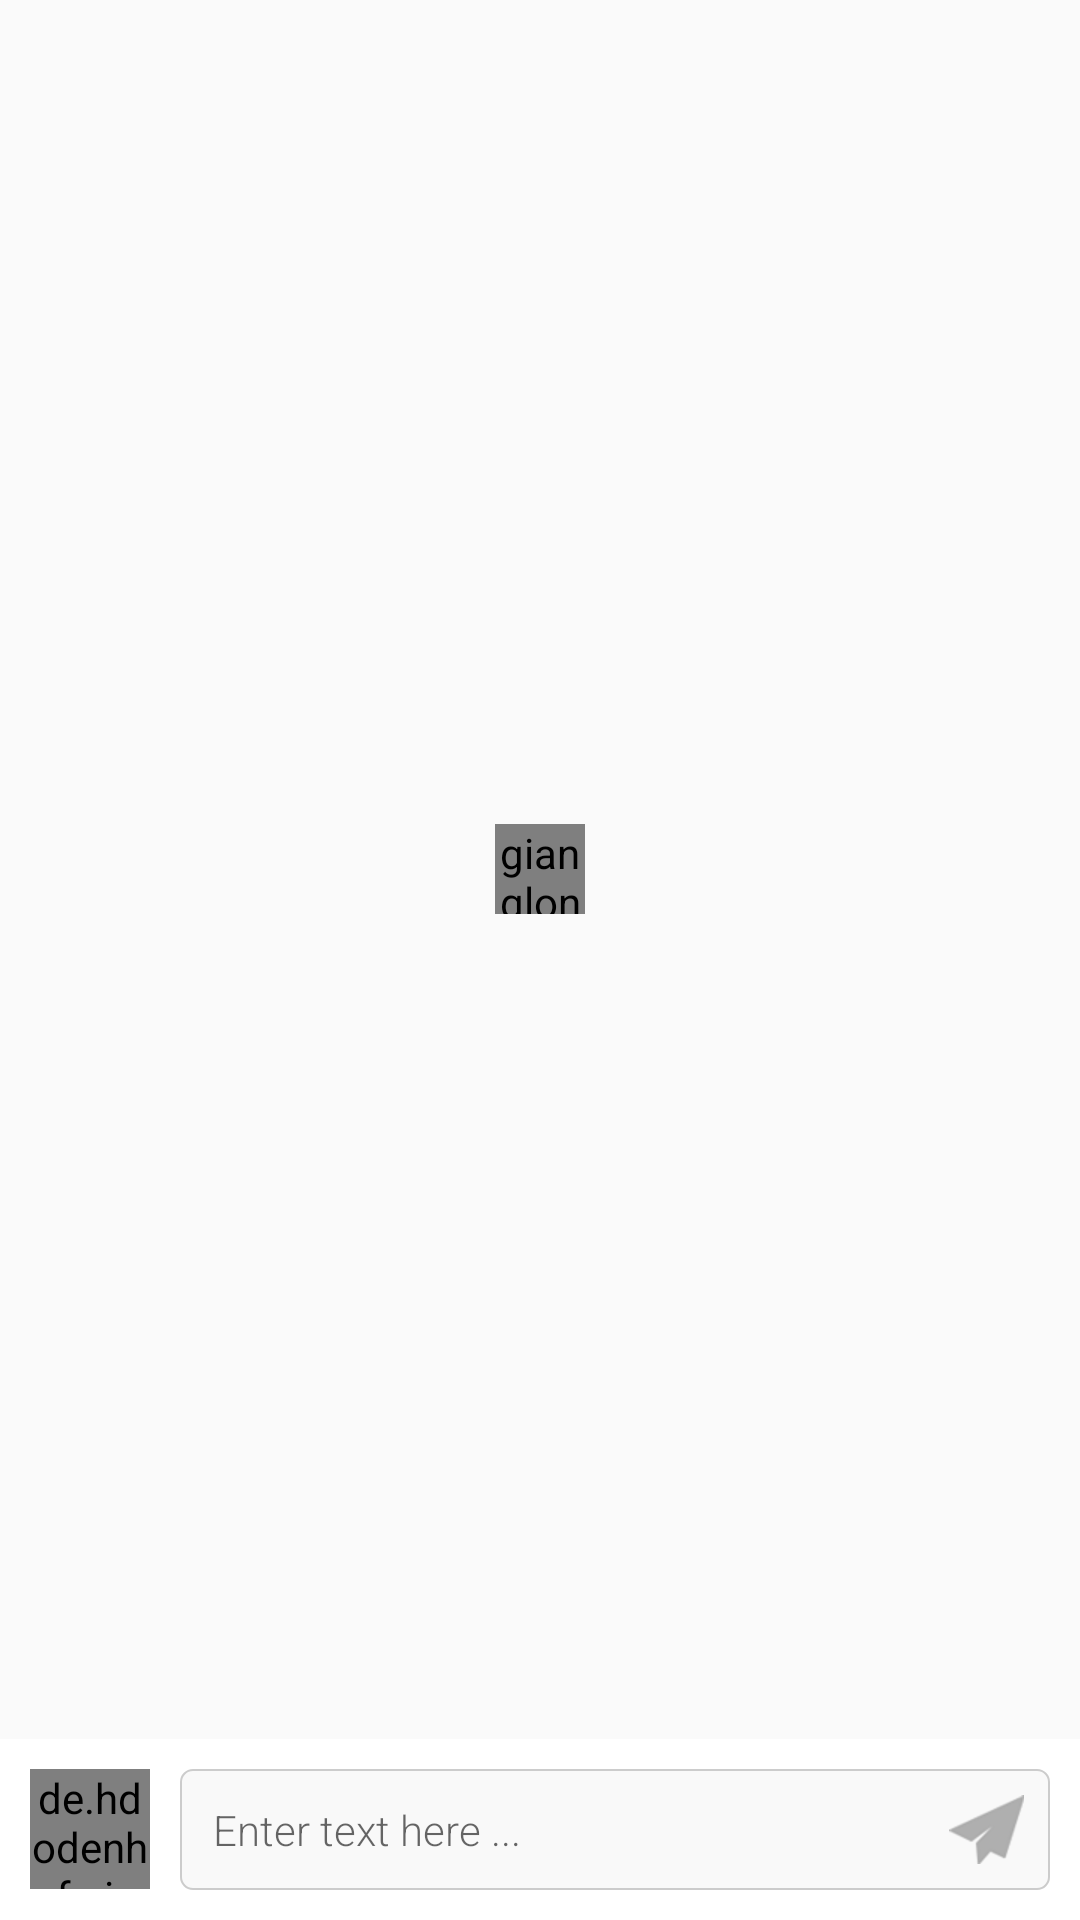

Point at icon controls on the screen. Image size 1080 × 1920, points as (x=x, y=y).
send deactivate: (x=986, y=1829)
